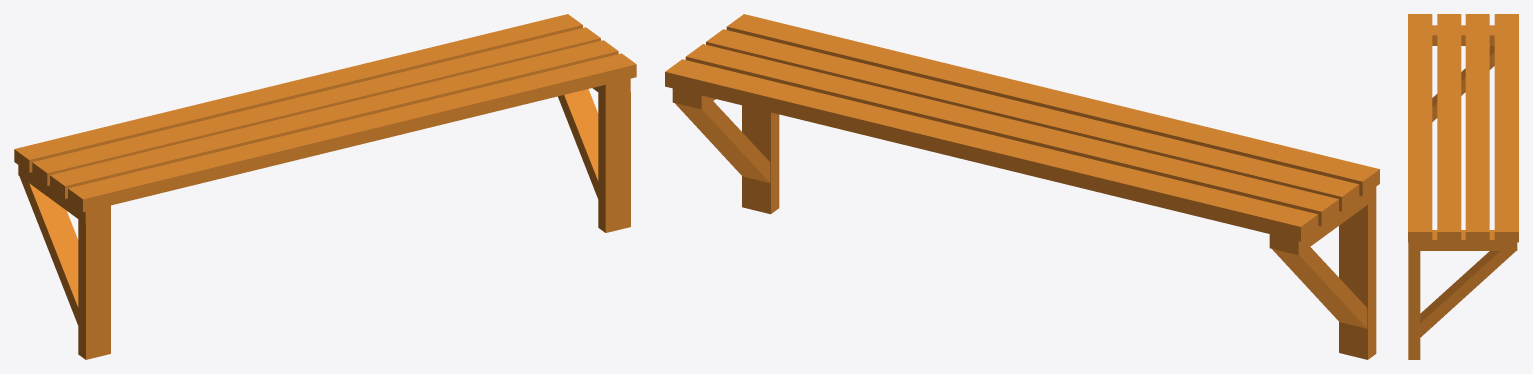
Rendered from shed_shelf.fbx.
3 renders of one model, left to right at view 1: azimuth 30°, elevation 25°; view 2: azimuth 150°, elevation 25°; view 3: azimuth 270°, elevation 25°, orthographic. The views are drawn at different scales.
Visible parts, largest first — view 1: Cube, Cube.003, Cube.001, Cube.002, Cube.004, Cube.010, Cube.012, Cube.006, Cube.011; view 2: Cube.003, Cube, Cube.002, Cube.001, Cube.010, Cube.006, Cube.004, Cube.012, Cube.011; view 3: Cube, Cube.001, Cube.002, Cube.003, Cube.006, Cube.004, Cube.005, Cube.012, Cube.011.
Part boxes in pixels (x1,y1,x2,y2): Cube: (68, 53, 636, 212); Cube.003: (14, 14, 582, 172); Cube.001: (50, 40, 618, 198); Cube.002: (32, 27, 600, 185); Cube.004: (598, 91, 630, 232); Cube.010: (78, 218, 110, 359); Cube.012: (19, 176, 78, 325); Cube.006: (558, 89, 598, 198); Cube.011: (18, 165, 110, 224); Cube.003: (665, 59, 1318, 241); Cube: (726, 14, 1379, 196); Cube.002: (685, 44, 1338, 226); Cube.001: (706, 29, 1359, 211); Cube.010: (1339, 199, 1376, 359); Cube.006: (675, 101, 770, 182); Cube.004: (742, 105, 779, 214); Cube.012: (1272, 247, 1367, 328); Cube.011: (1269, 187, 1376, 255); Cube: (1408, 14, 1432, 242); Cube.001: (1437, 14, 1461, 242); Cube.002: (1465, 14, 1489, 242); Cube.003: (1494, 14, 1518, 242); Cube.006: (1420, 251, 1515, 337); Cube.004: (1408, 250, 1420, 359); Cube.005: (1408, 230, 1517, 250); Cube.012: (1432, 46, 1494, 121); Cube.011: (1432, 25, 1494, 45).
Bounding box in the file's own units: 599 × 167 × 129.
